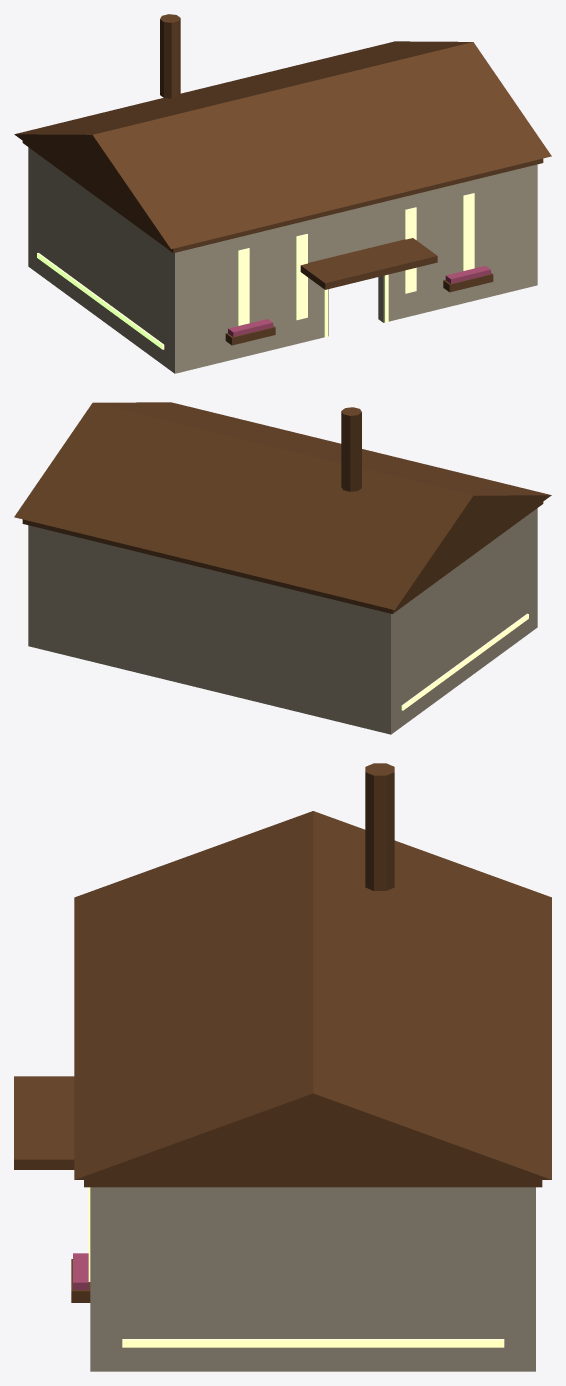
Rendered from shaddai_dist_meadow_b2_v01.glb.
3 renders of one model, top to bottom at view 1: azimuth 30°, elevation 25°; view 2: azimuth 150°, elevation 25°; view 3: azimuth 270°, elevation 25°, orthographic. The views are drawn at different scales.
Visible parts, largest first — view 1: shaddai_dist_meadow_b2; view 2: shaddai_dist_meadow_b2; view 3: shaddai_dist_meadow_b2.
Boxes of the visible parts, x1,y1,x2,y2 form: shaddai_dist_meadow_b2: (14,14,551,373); shaddai_dist_meadow_b2: (14,402,551,734); shaddai_dist_meadow_b2: (14,763,551,1371).
Size of the model in its own units: 21 by 13.88 by 16.9.
